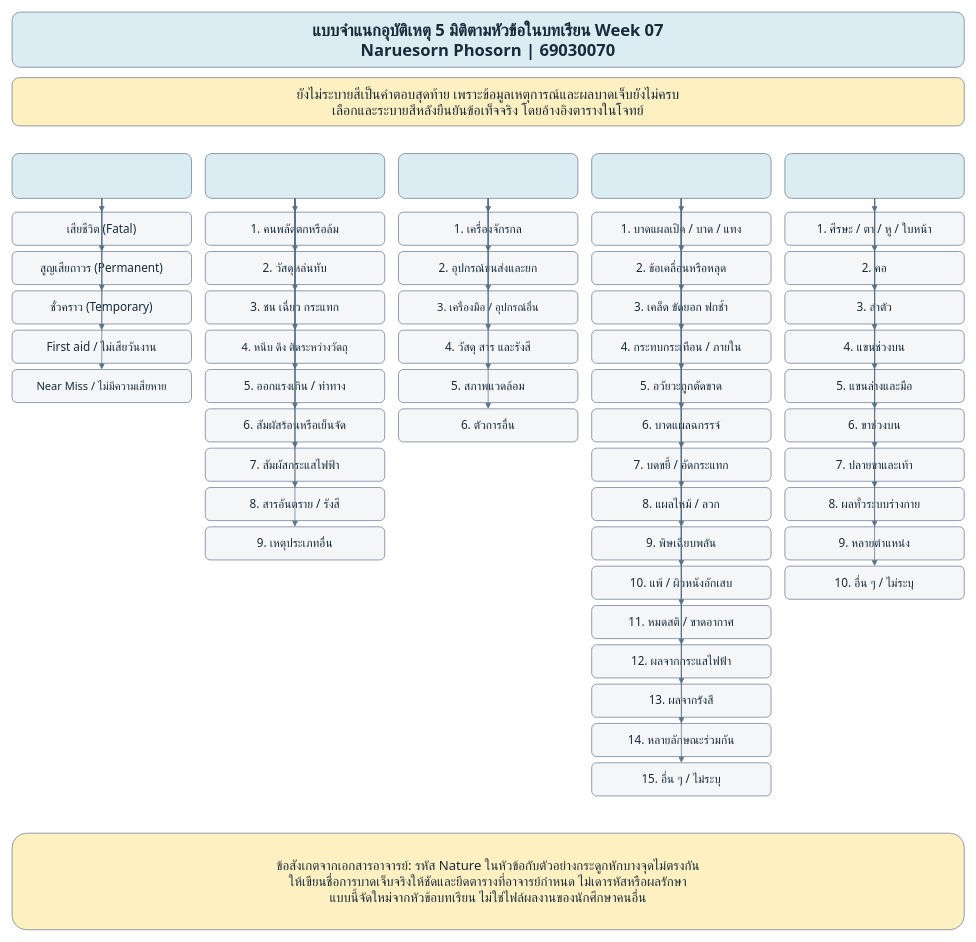
This 976x942 diagram has some shape labels left out. Here are the shapes that lost their labels. From the top down, the centre of each, then its label:
the point at 101,175: Severity
the point at 295,175: Type
the point at 488,175: Agency
the point at 681,175: Nature
the point at 874,175: Location
